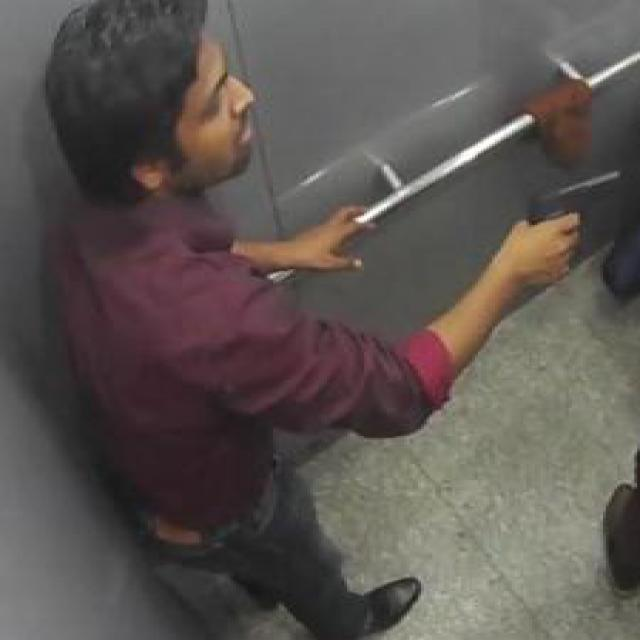gun: (523, 168, 620, 274)
